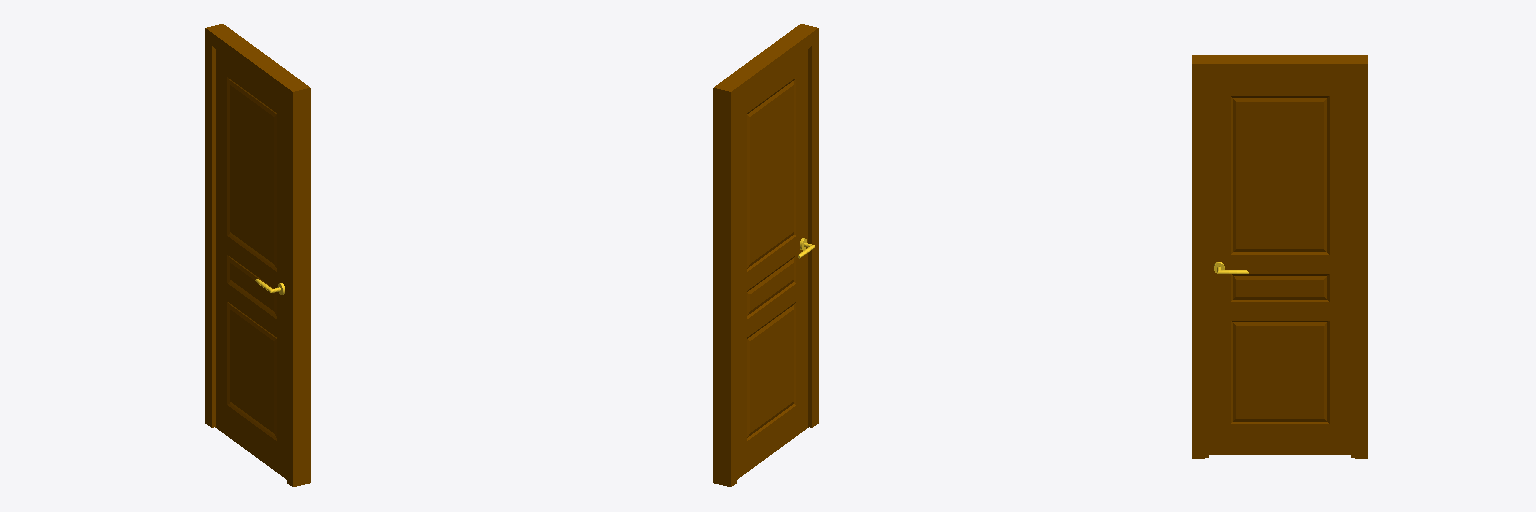
Rendered from house2bdoor2.obj.
3 renders of one model, left to right at view 1: azimuth 30°, elevation 25°; view 2: azimuth 150°, elevation 25°; view 3: azimuth 270°, elevation 25°, orthographic.
Parts seen in each view (by area): view 1: sweethome3d_opening_on_hinge_1_door_4, frame_door_Cube_2; view 2: sweethome3d_opening_on_hinge_1_door_4, frame_door_Cube_2; view 3: sweethome3d_opening_on_hinge_1_door_4, frame_door_Cube_2.
Part boxes in pixels (x1,y1,x2,y2): sweethome3d_opening_on_hinge_1_door_4: (216,49,286,479); frame_door_Cube_2: (205,24,310,486); sweethome3d_opening_on_hinge_1_door_4: (737,49,807,479); frame_door_Cube_2: (713,24,818,486); sweethome3d_opening_on_hinge_1_door_4: (1209,79,1350,454); frame_door_Cube_2: (1192,55,1367,458).
Size of the model in its own units: 18.67 by 204 by 82.